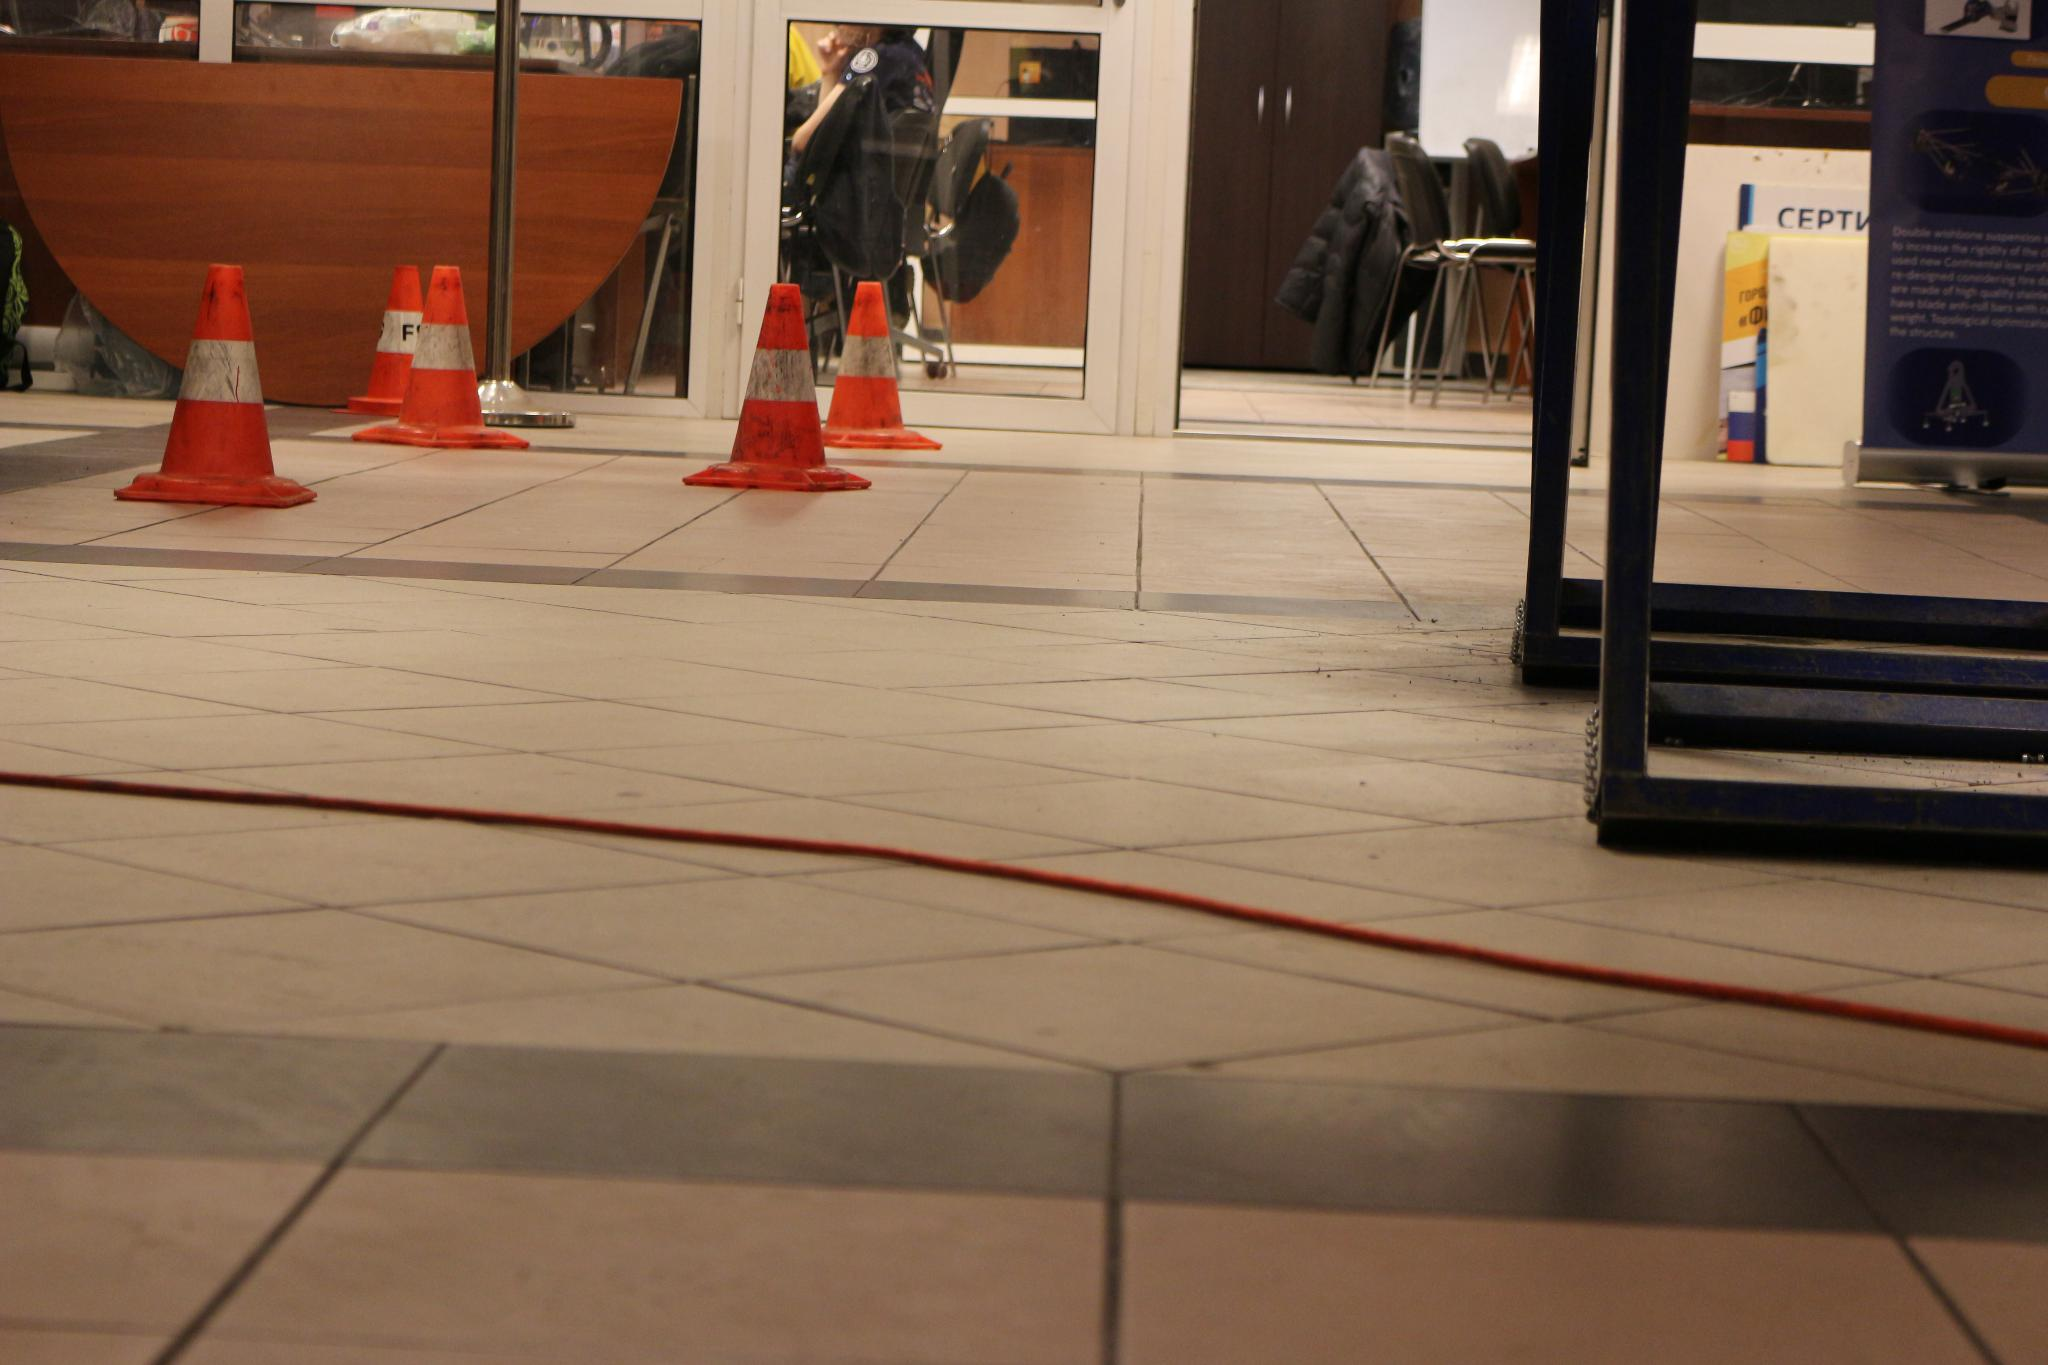Orange_Cone: (120, 253, 309, 512), (705, 277, 856, 495), (367, 259, 518, 449), (815, 265, 930, 454), (346, 259, 460, 419)
